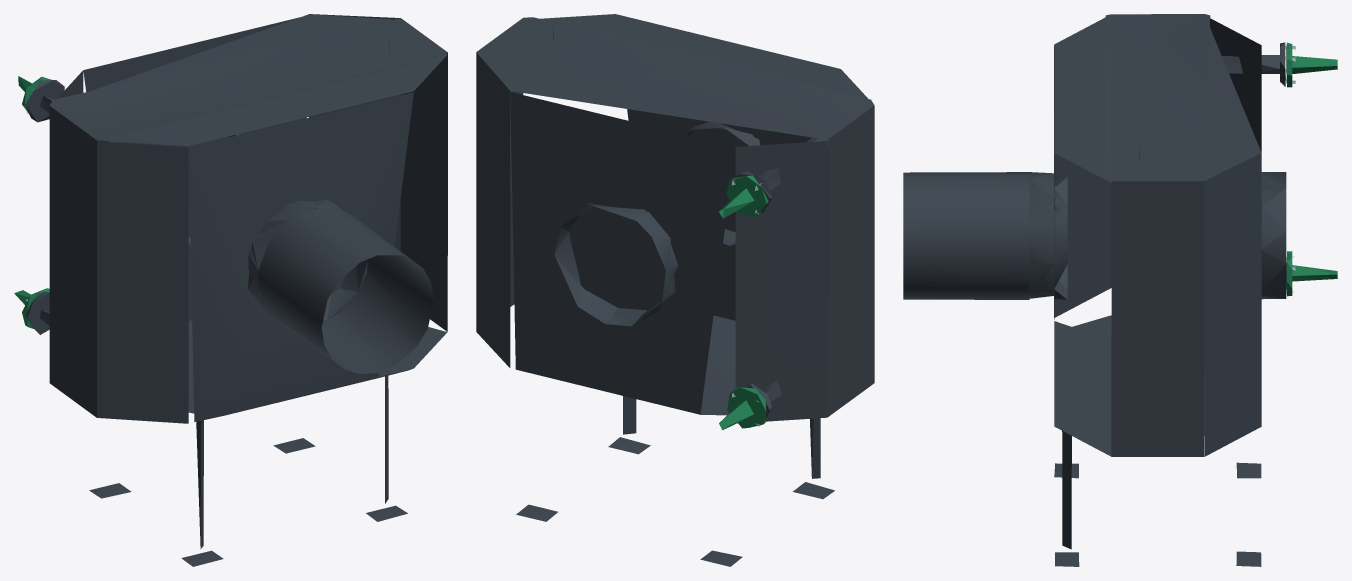
File: economizer.glb
The picture shows the model from 3 angles, left to right: view 1: azimuth 30°, elevation 25°; view 2: azimuth 150°, elevation 25°; view 3: azimuth 270°, elevation 25°; orthographic projection.
Visible parts, largest first — view 1: economizer, flue_spacer, eco_inlet_adapter; view 2: economizer, eco_inlet_adapter; view 3: economizer, flue_spacer, eco_inlet_adapter.
Part boxes in pixels (x1=…): economizer: x1=25, y1=14, x2=447, y2=566; flue_spacer: x1=258, y1=207, x2=433, y2=373; eco_inlet_adapter: x1=14, y1=76, x2=59, y2=328; economizer: x1=476, y1=14, x2=874, y2=566; eco_inlet_adapter: x1=719, y1=175, x2=768, y2=430; economizer: x1=1029, y1=14, x2=1286, y2=566; flue_spacer: x1=903, y1=172, x2=1029, y2=299; eco_inlet_adapter: x1=1280, y1=42, x2=1337, y2=296.
Bounding box in the file's own units: 1.58 × 1.9 × 1.72.
